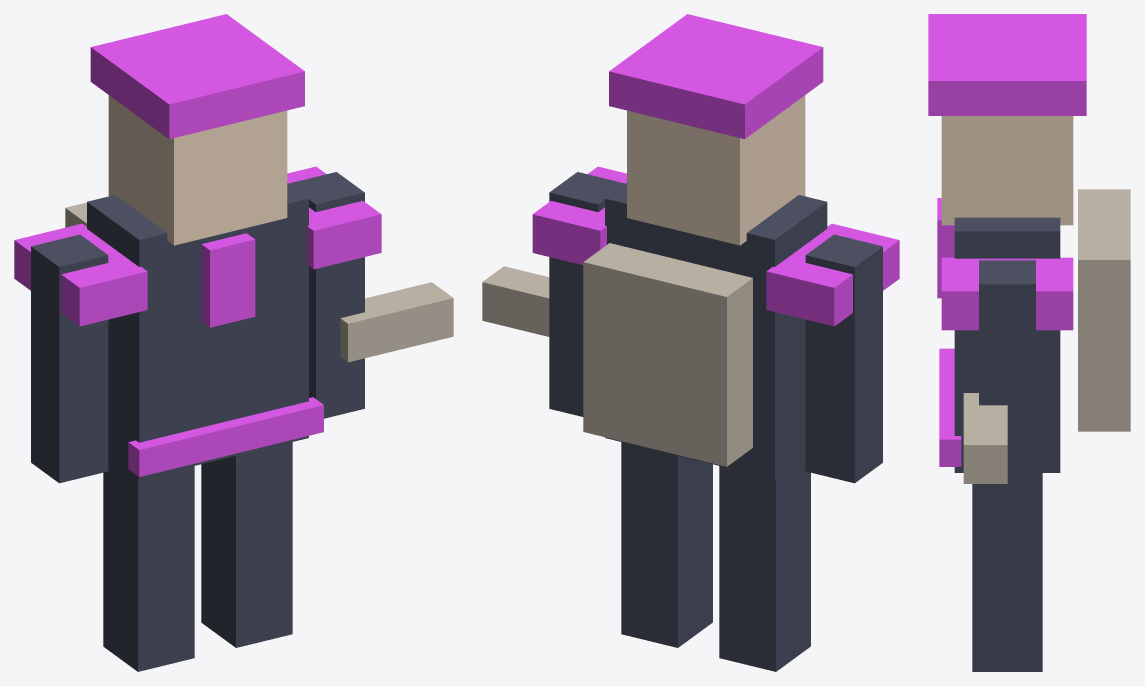
The model's file is 05_auren_cinderholt_broker_of_anomaly.glb.
The picture shows the model from 3 angles, left to right: view 1: azimuth 30°, elevation 25°; view 2: azimuth 150°, elevation 25°; view 3: azimuth 270°, elevation 25°; orthographic projection.
Visible parts, largest first — view 1: Auren Cinderholt, Broker of Anomaly; view 2: Auren Cinderholt, Broker of Anomaly; view 3: Auren Cinderholt, Broker of Anomaly.
Part boxes in pixels (x1=…): Auren Cinderholt, Broker of Anomaly: x1=14, y1=14, x2=453, y2=671; Auren Cinderholt, Broker of Anomaly: x1=482, y1=14, x2=899, y2=671; Auren Cinderholt, Broker of Anomaly: x1=928, y1=14, x2=1130, y2=671.
Bounding box in the file's own units: 1.08 × 1.55 × 0.4835.
